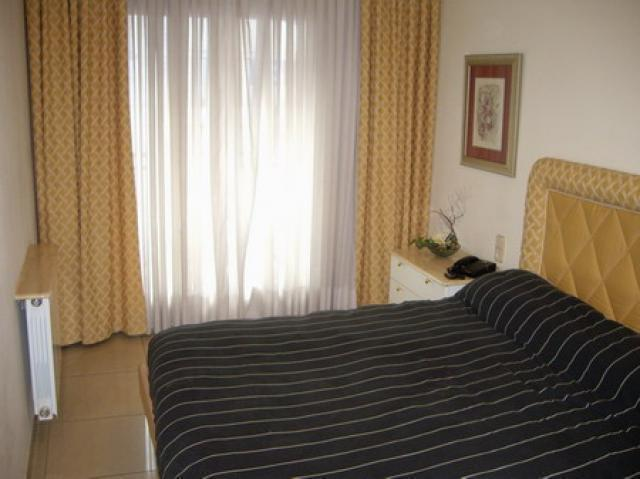Cama: (134, 174, 633, 467)
Otro Obstaculo: (14, 238, 70, 422)
